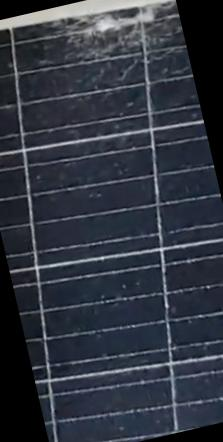Crack: (60, 0, 190, 88)
